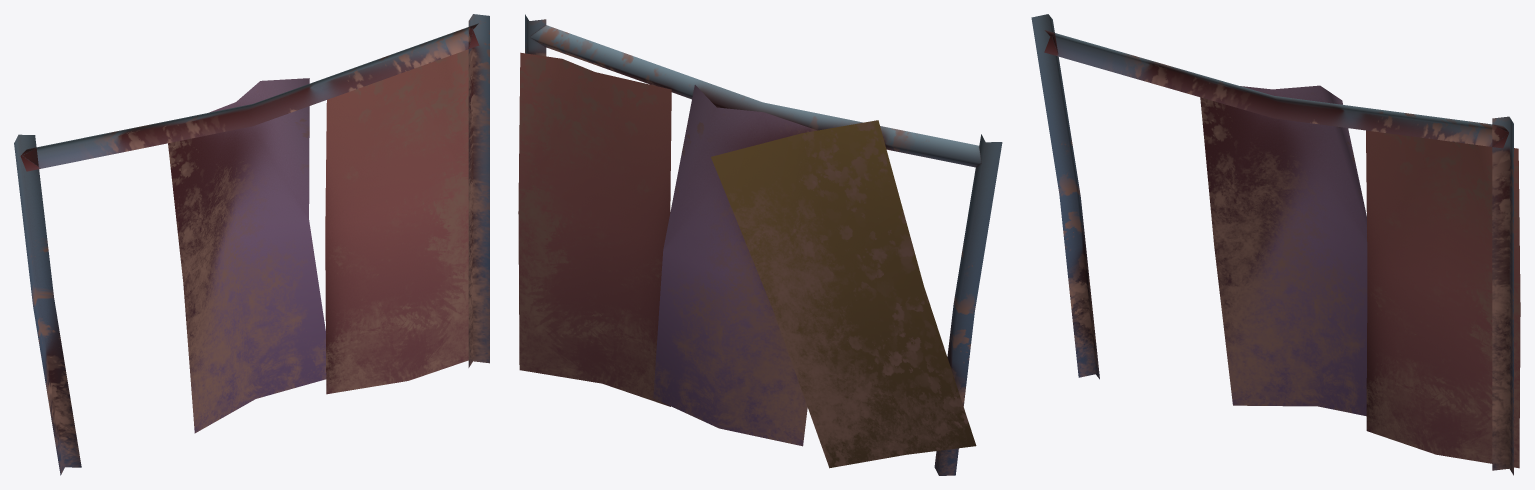
The model's file is Fence2.glb.
3 views of the same model, side by side, from view 1: azimuth 30°, elevation 25°; view 2: azimuth 150°, elevation 25°; view 3: azimuth 330°, elevation 25° (orthographic).
Parts seen in each view (by area): view 1: Fence; view 2: Fence; view 3: Fence.
Part boxes in pixels (x1,y1,x2,y2): Fence: (14,14,489,475); Fence: (518,14,1002,475); Fence: (1031,14,1520,475).
Bounding box in the file's own units: 2.68 × 1.96 × 0.2994.
Materials: 1 (1 with a texture image).
